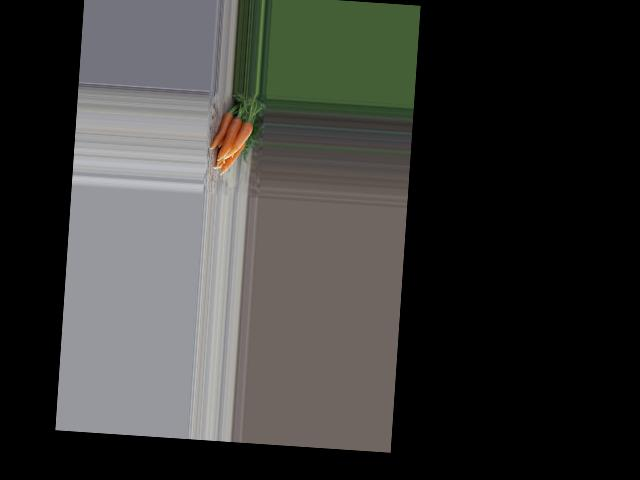carrot: (209, 110, 234, 155)
